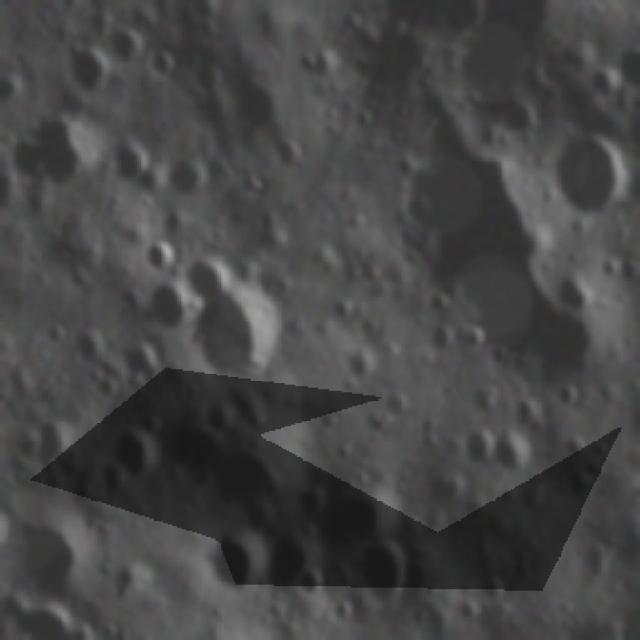crater: (188, 290, 286, 399), (8, 502, 102, 606), (146, 408, 240, 501), (550, 124, 630, 221), (8, 115, 102, 197), (213, 443, 295, 523), (352, 21, 441, 93), (318, 478, 409, 548), (336, 538, 416, 612), (199, 522, 263, 604), (224, 64, 288, 130), (256, 532, 316, 596), (113, 414, 164, 488), (99, 137, 155, 203), (160, 147, 215, 211), (4, 597, 81, 640), (488, 428, 544, 486), (142, 284, 195, 341), (177, 255, 234, 307), (66, 50, 117, 107), (412, 468, 468, 518), (29, 418, 80, 469), (222, 392, 273, 438), (119, 340, 163, 391), (456, 422, 499, 472), (491, 98, 538, 142), (578, 541, 622, 587), (463, 377, 509, 421), (554, 276, 598, 318), (561, 472, 607, 512), (293, 50, 342, 87), (69, 327, 113, 367), (109, 567, 156, 604), (141, 239, 181, 281), (223, 253, 263, 295), (509, 394, 548, 437), (342, 347, 381, 387), (110, 32, 148, 71), (586, 67, 626, 104), (191, 57, 227, 98), (271, 134, 306, 175), (423, 322, 460, 360), (322, 296, 360, 333), (477, 569, 512, 608), (146, 46, 182, 83), (443, 591, 480, 626), (403, 191, 435, 231), (296, 564, 324, 608), (89, 370, 122, 407), (418, 292, 454, 325), (552, 388, 588, 418), (349, 103, 382, 135), (559, 434, 592, 464), (382, 391, 416, 420), (40, 320, 71, 351), (391, 157, 423, 186), (587, 439, 615, 470), (615, 258, 640, 292), (461, 324, 487, 354), (597, 254, 621, 286), (333, 438, 358, 468), (9, 466, 31, 499)
